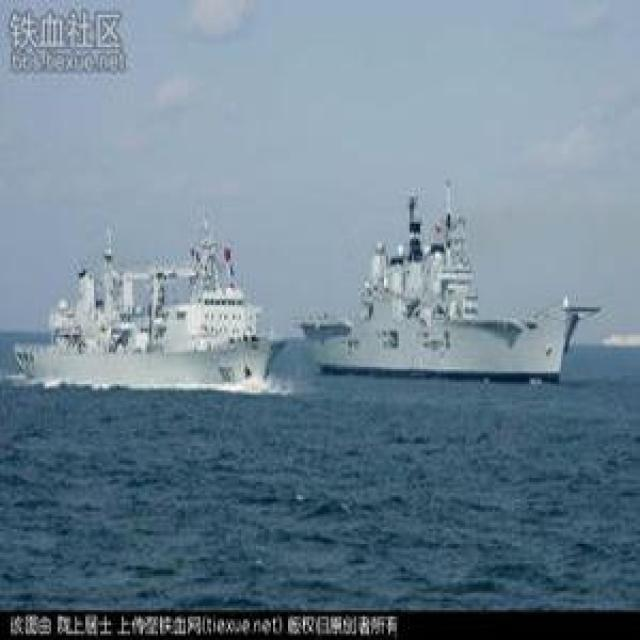navalvessels: (300, 181, 590, 385), (1, 210, 283, 390)
